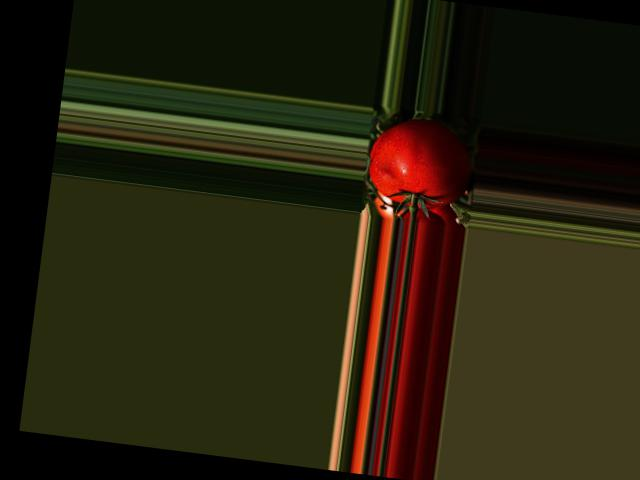tomato: (364, 113, 476, 213)
